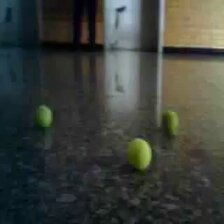tennis: (125, 138, 152, 171), (160, 110, 179, 139), (36, 104, 53, 129)
